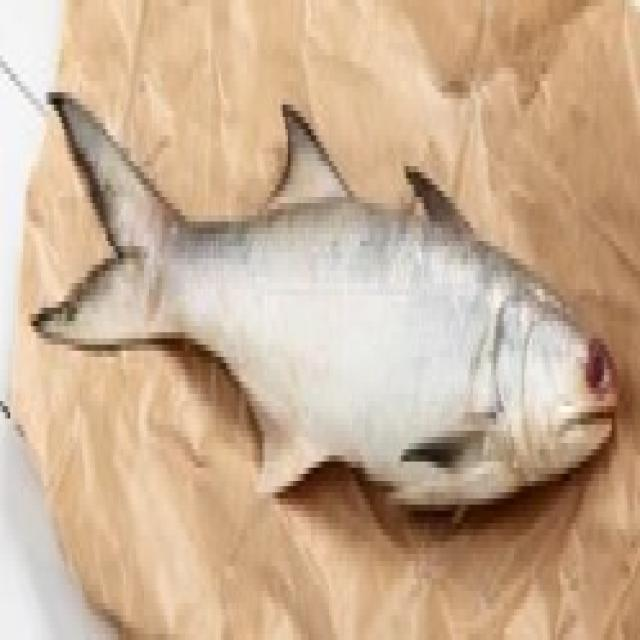Fourfinger-Threadfin: (36, 33, 630, 512)
